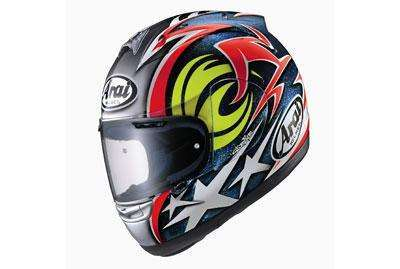helmet: (88, 7, 322, 258)
